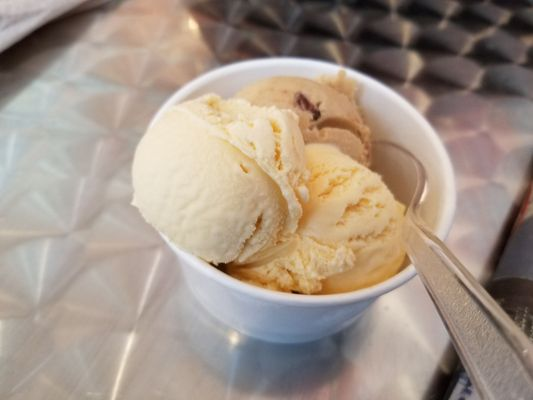salad: (368, 135, 533, 399)
sushi: (47, 56, 503, 399), (142, 68, 418, 349)
